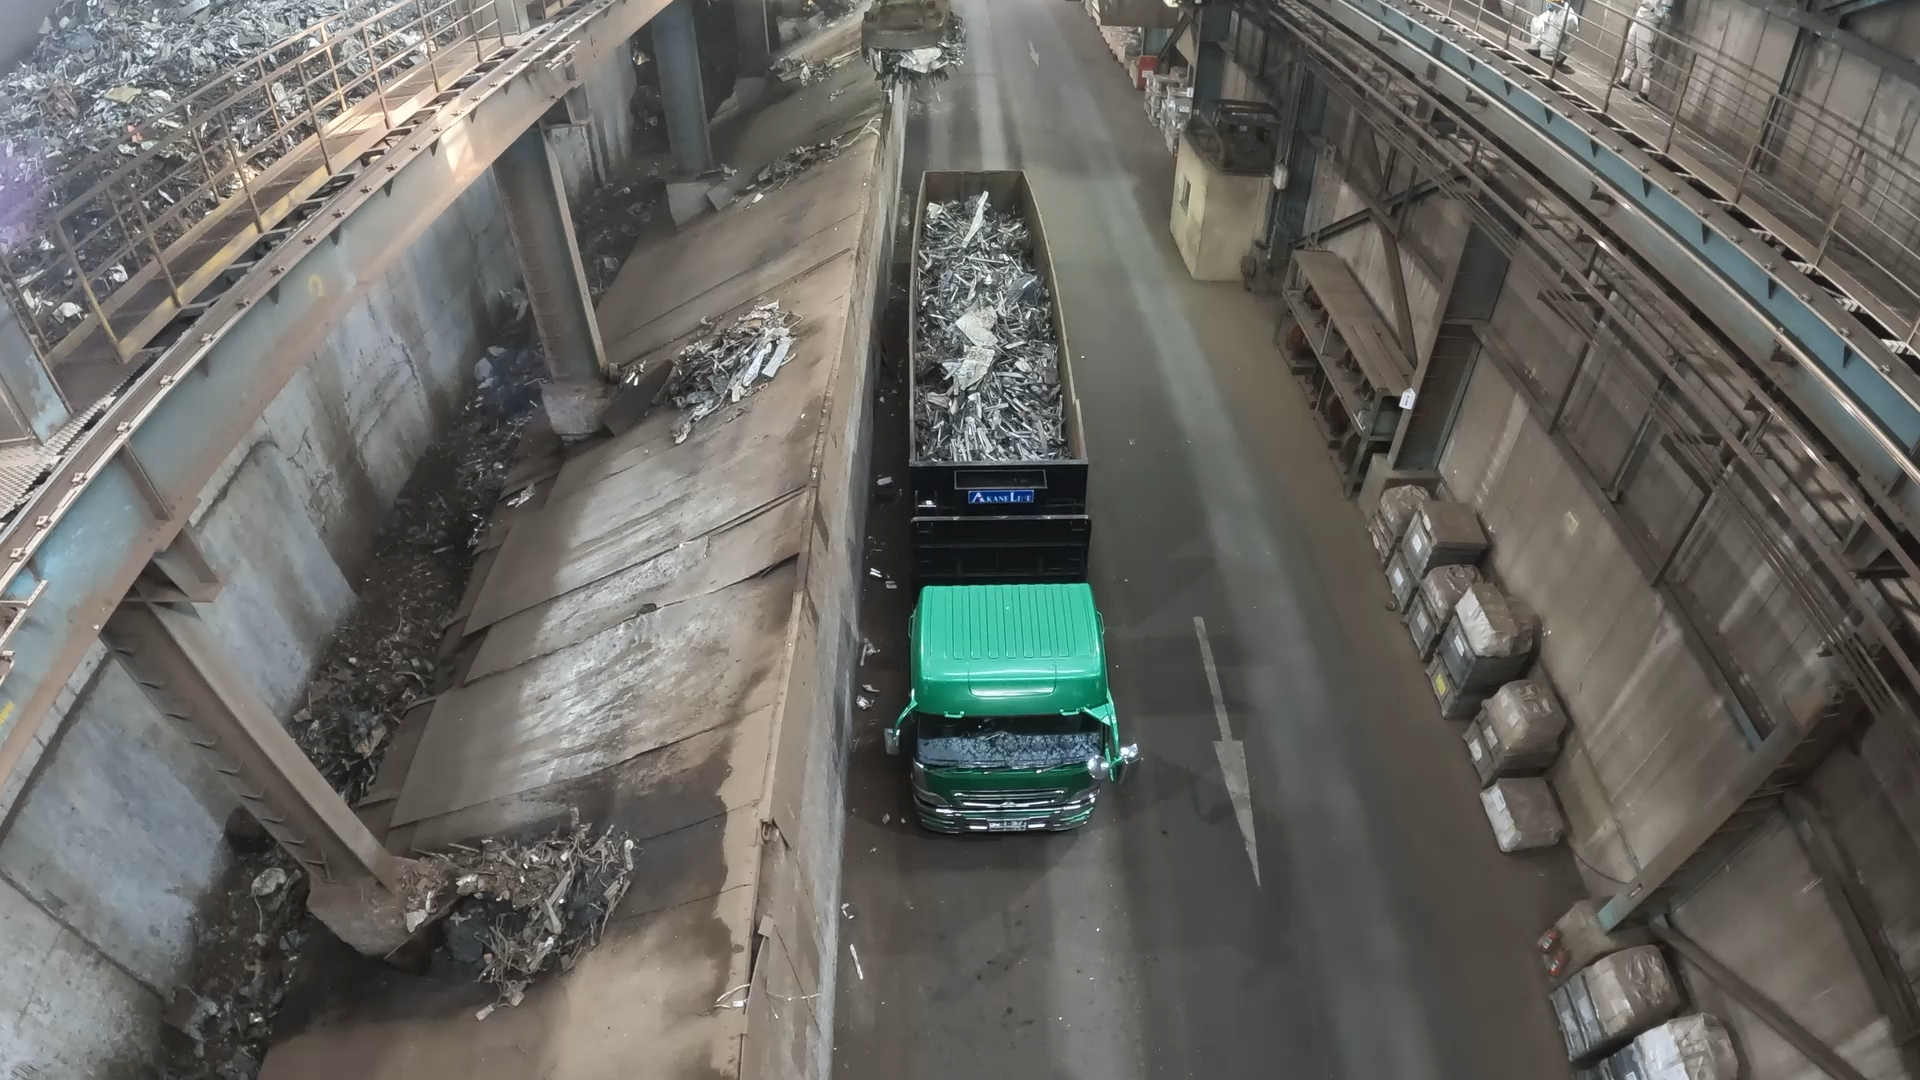truck: (910, 170, 1087, 464)
